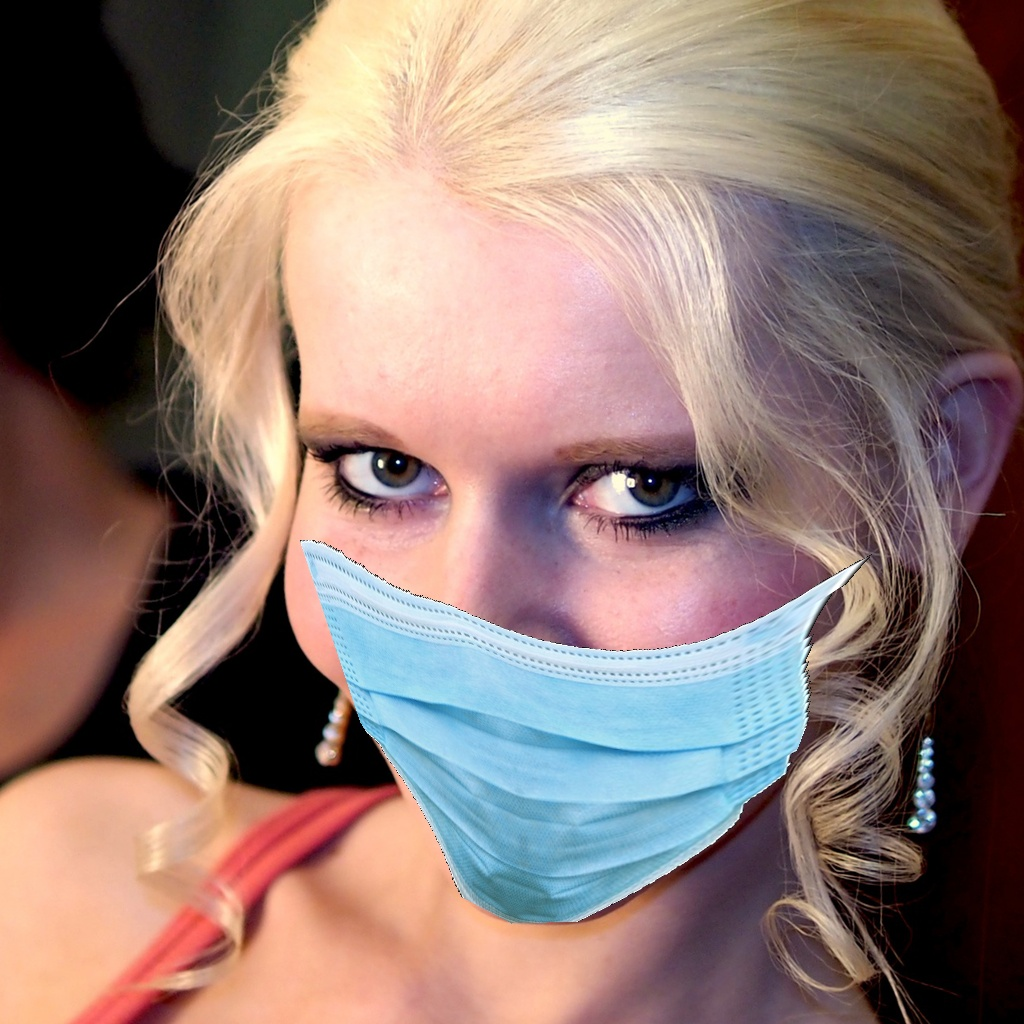Mask: (284, 403, 859, 931)
